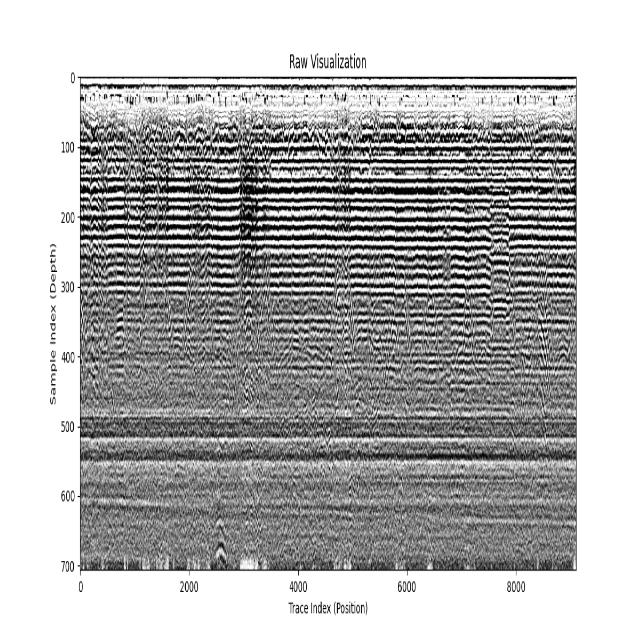anomaly: (274, 256, 352, 381), (369, 279, 417, 401), (82, 255, 119, 411), (239, 145, 257, 409), (180, 255, 218, 378), (522, 299, 556, 435), (134, 255, 172, 368), (449, 279, 483, 398), (422, 291, 443, 399), (210, 506, 230, 564)
